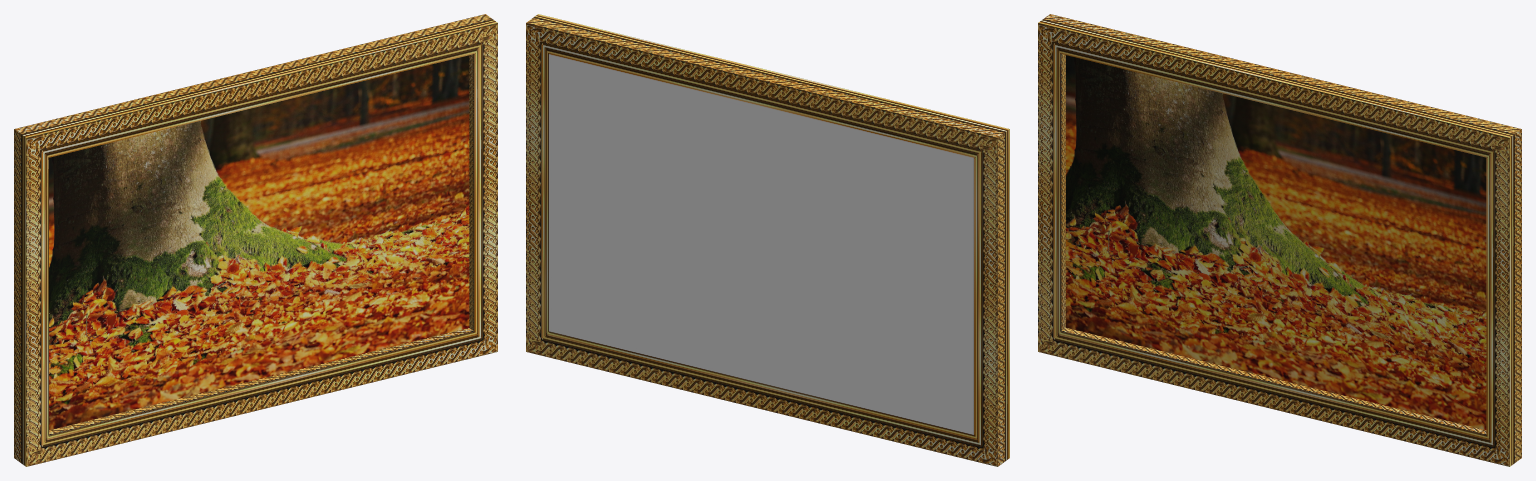
The model's file is Frame_019.FBX.
3 views of the same model, side by side, from view 1: azimuth 30°, elevation 25°; view 2: azimuth 150°, elevation 25°; view 3: azimuth 330°, elevation 25° (orthographic).
Visible parts, largest first — view 1: Frame_019; view 2: Frame_019; view 3: Frame_019.
Part boxes in pixels (left/top/right/bottom): Frame_019: left=14, top=14, right=497, bottom=466; Frame_019: left=526, top=14, right=1009, bottom=466; Frame_019: left=1038, top=14, right=1521, bottom=466.
Bounding box in the file's own units: 810 × 36 × 540.
